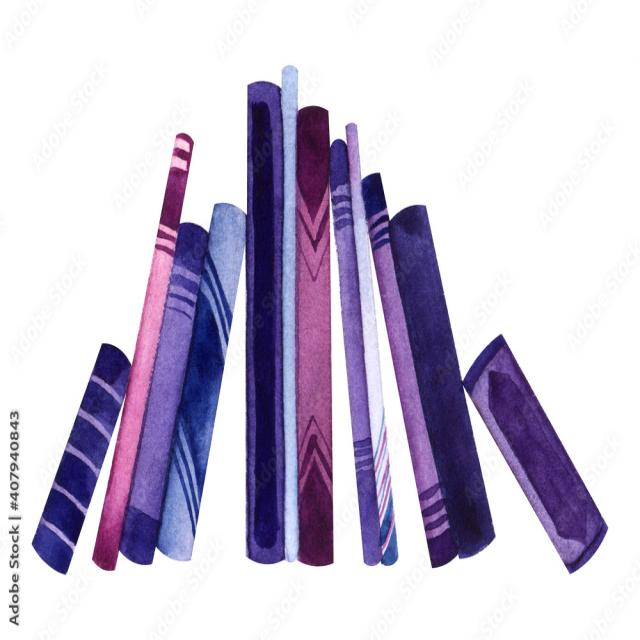Books: (92, 133, 194, 569), (360, 174, 458, 567), (389, 206, 495, 557), (464, 335, 608, 572), (158, 204, 246, 560), (120, 222, 208, 564), (346, 124, 398, 565), (32, 344, 131, 573), (330, 139, 381, 565), (246, 81, 285, 563), (296, 106, 334, 565), (281, 65, 299, 561)
